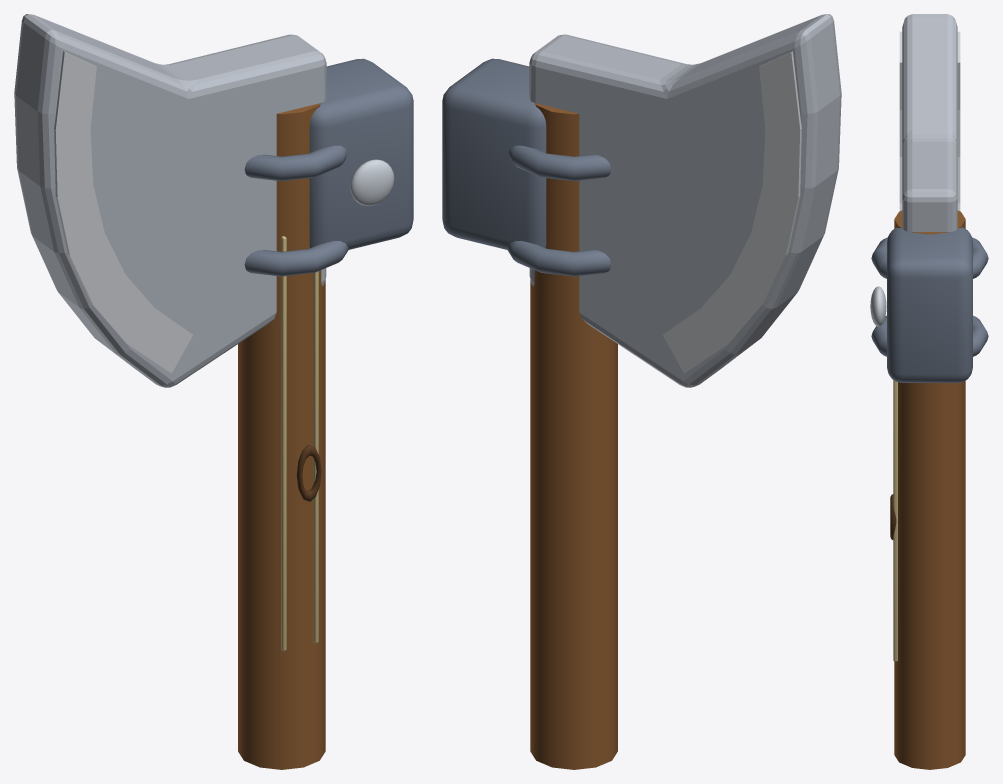
The model's file is axe3.glb.
The picture shows the model from 3 angles, left to right: view 1: azimuth 30°, elevation 25°; view 2: azimuth 150°, elevation 25°; view 3: azimuth 270°, elevation 25°; orthographic projection. The views are drawn at different scales.
Visible parts, largest first — view 1: _box.002, _box; view 2: _box.002, _box; view 3: _box, _box.002.
Part boxes in pixels (x1=…): _box.002: x1=14, y1=14, x2=413, y2=387; _box: x1=238, y1=103, x2=325, y2=769; _box.002: x1=442, y1=14, x2=841, y2=387; _box: x1=530, y1=103, x2=617, y2=769; _box: x1=890, y1=210, x2=965, y2=769; _box.002: x1=870, y1=14, x2=988, y2=382.
Bounding box in the file's own units: 0.446 × 0.9142 × 0.1521.
